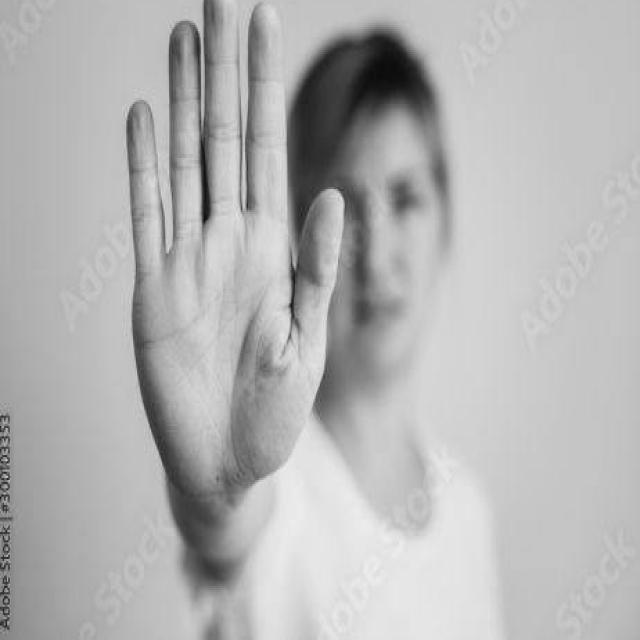stop: (118, 0, 349, 511)
